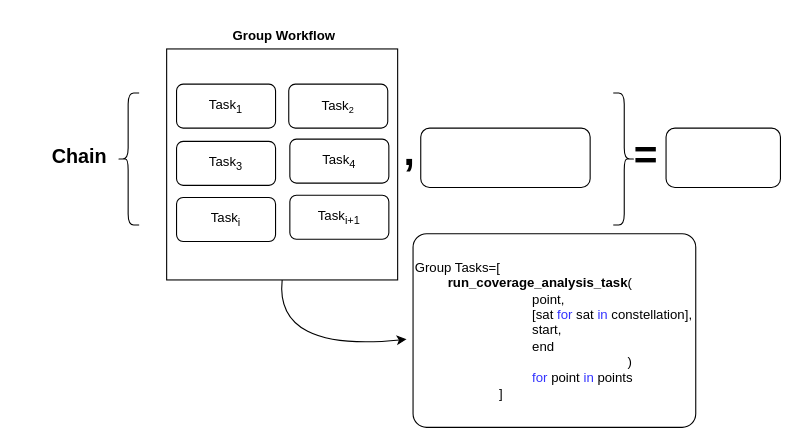
This 800x447 diagram has some shape labels left out. The shapes that lost their labels are listed below. From the top down, each one's centre as x and y in pixels, then its label:
pixel 505 157: Merge_feature_collection
pixel 722 157: Results
